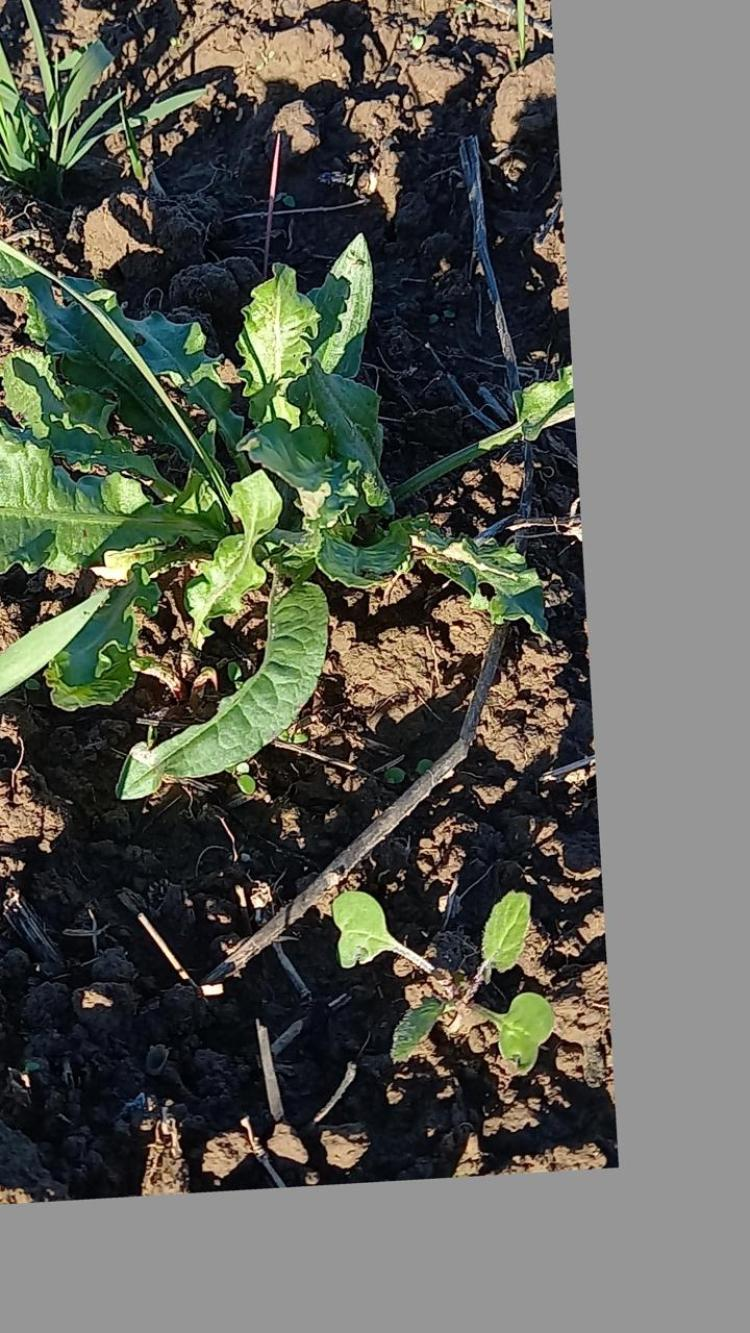zhavel: (0, 231, 571, 802)
